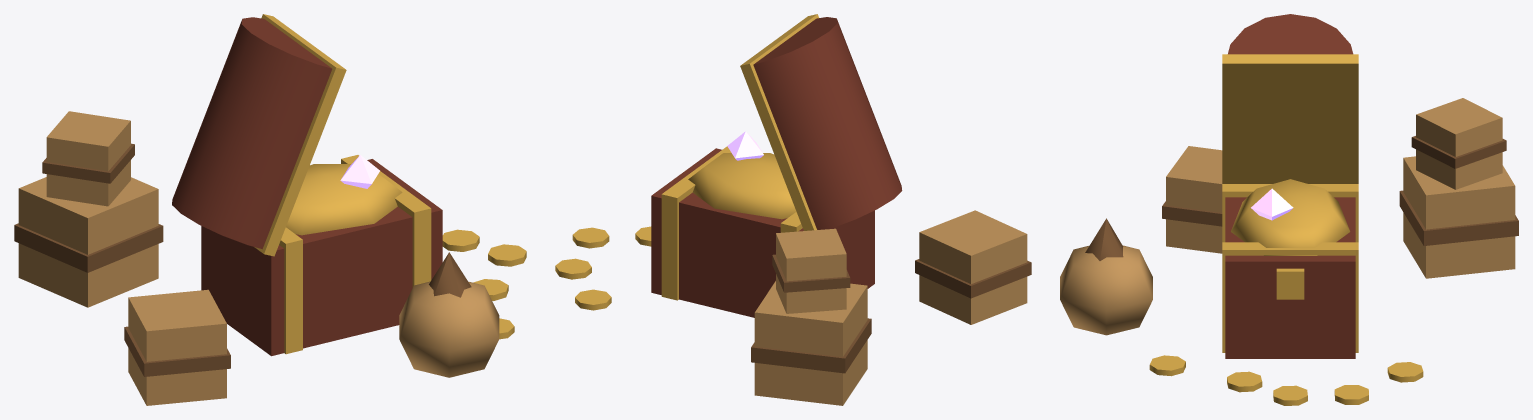
Rendered from landmark_treasure.glb.
3 renders of one model, left to right at view 1: azimuth 30°, elevation 25°; view 2: azimuth 150°, elevation 25°; view 3: azimuth 270°, elevation 25°, orthographic. The views are drawn at different scales.
Visible parts, largest first — view 1: chest_lid_shell, chest_body, crate_0_box, crate_1_box, sack, crate_2_box, chest_gold, chest, chest_lid_rim, crate_0_band, crate_1_band, crate_2_band (+5 smaller); view 2: chest_lid_shell, chest_body, crate_0_box, crate_1_box, chest_gold, crate_2_box, chest_lid_rim, chest, crate_0_band, crate_1_band, crate_2_band, chest_gem (+3 smaller); view 3: chest_lid_rim, chest_body, crate_0_box, sack, crate_2_box, chest_gold, crate_1_box, chest_lid_shell, chest, crate_0_band, crate_2_band, chest_lock (+8 smaller).
Part boxes in pixels (left/top/right/bottom): chest_lid_shell: left=172, top=17, right=332, bottom=249; chest_body: left=201, top=159, right=442, bottom=356; crate_0_box: left=18, top=177, right=158, bottom=307; crate_1_box: left=128, top=289, right=226, bottom=405; sack: left=399, top=281, right=499, bottom=377; crate_2_box: left=46, top=111, right=130, bottom=206; chest_gold: left=286, top=164, right=402, bottom=235; chest: left=279, top=155, right=431, bottom=354; chest_lid_rim: left=254, top=14, right=346, bottom=256; crate_0_band: left=14, top=223, right=163, bottom=272; crate_1_band: left=124, top=326, right=230, bottom=376; crate_2_band: left=42, top=143, right=134, bottom=183; chest_lid_shell: left=753, top=17, right=902, bottom=229; chest_body: left=651, top=148, right=874, bottom=317; crate_0_box: left=754, top=281, right=867, bottom=405; crate_1_box: left=919, top=210, right=1027, bottom=324; chest_gold: left=688, top=153, right=796, bottom=219; crate_2_box: left=776, top=228, right=846, bottom=313; chest_lid_rim: left=740, top=14, right=818, bottom=230; chest: left=661, top=146, right=802, bottom=300; crate_0_band: left=751, top=318, right=871, bottom=373; crate_1_band: left=915, top=259, right=1031, bottom=298; crate_2_band: left=772, top=254, right=850, bottom=292; chest_gem: left=727, top=131, right=763, bottom=160; chest_lid_rim: left=1222, top=54, right=1358, bottom=183; chest_body: left=1225, top=197, right=1355, bottom=358; crate_0_box: left=1403, top=156, right=1515, bottom=278; sack: left=1060, top=245, right=1152, bottom=335; crate_2_box: left=1416, top=98, right=1502, bottom=189; chest_gold: left=1231, top=179, right=1350, bottom=255; crate_1_box: left=1166, top=146, right=1222, bottom=253; chest_lid_shell: left=1228, top=14, right=1353, bottom=54; chest: left=1222, top=184, right=1358, bottom=352; crate_0_band: left=1399, top=190, right=1518, bottom=245; crate_2_band: left=1411, top=136, right=1506, bottom=168; chest_lock: left=1276, top=268, right=1304, bottom=299.
Size of the model in its own units: 0.3051 by 0.1969 by 0.2992.
